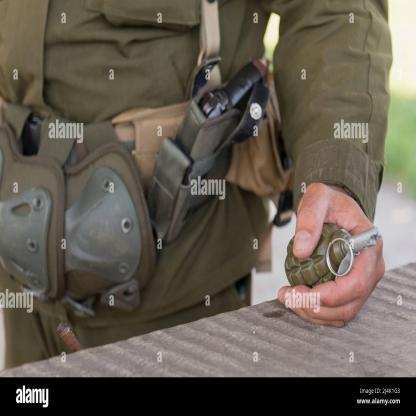Grenade: (284, 223, 382, 289)
